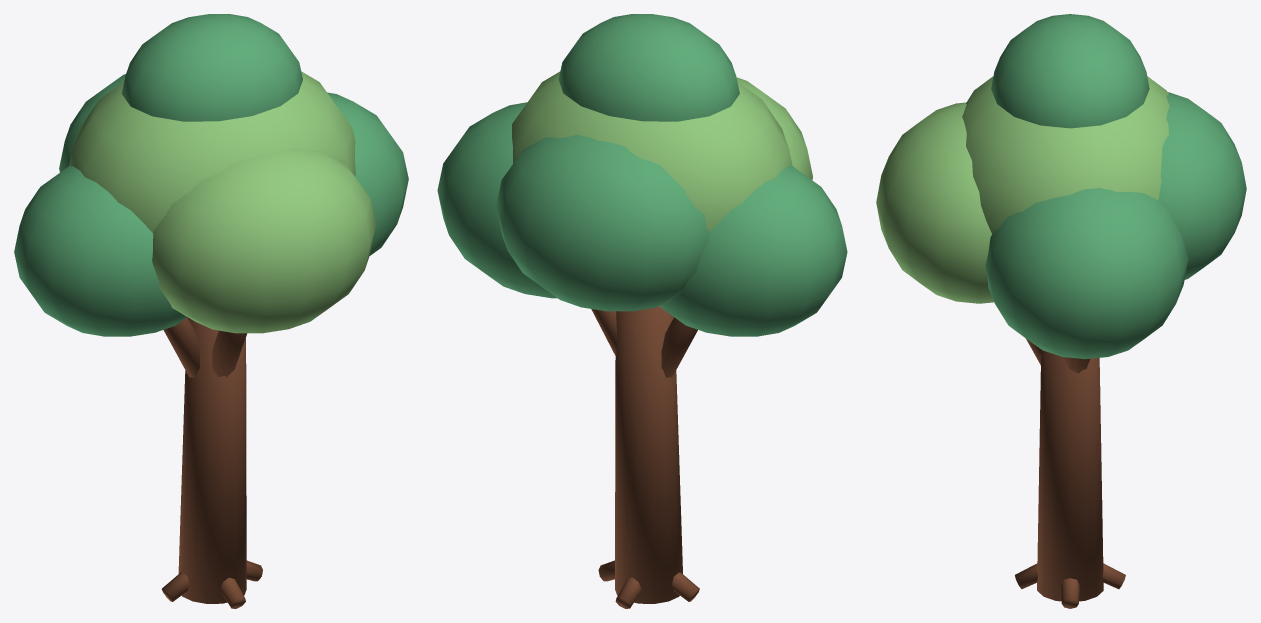
Rendered from round_tree.glb.
The picture shows the model from 3 angles, left to right: view 1: azimuth 30°, elevation 25°; view 2: azimuth 150°, elevation 25°; view 3: azimuth 270°, elevation 25°; orthographic projection.
Visible parts, largest first — view 1: round_tree_mesh; view 2: round_tree_mesh; view 3: round_tree_mesh.
Boxes of the visible parts, x1,y1,x2,y2 form: round_tree_mesh: [14, 14, 408, 608]; round_tree_mesh: [437, 14, 847, 608]; round_tree_mesh: [876, 14, 1246, 608].
Size of the model in its own units: 2.86 by 4.11 by 2.44.
